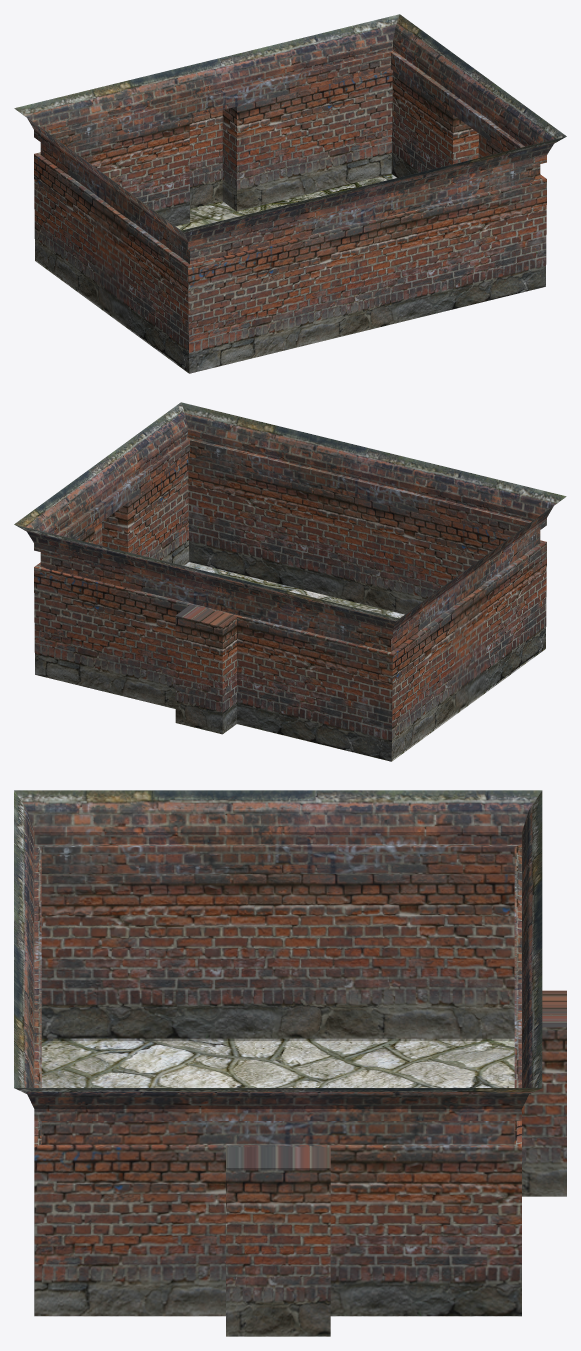
Rendered from RoomLeftBottomDoor.fbx.
3 renders of one model, top to bottom at view 1: azimuth 30°, elevation 25°; view 2: azimuth 150°, elevation 25°; view 3: azimuth 270°, elevation 25°, orthographic. The views are drawn at different scales.
Visible parts, largest first — view 1: RoomLeftBottomDoor; view 2: RoomLeftBottomDoor; view 3: RoomLeftBottomDoor.
Part boxes in pixels (bbox=[...]): RoomLeftBottomDoor: bbox=[14, 14, 566, 373]; RoomLeftBottomDoor: bbox=[14, 402, 566, 761]; RoomLeftBottomDoor: bbox=[14, 790, 566, 1336].
Size of the model in its own units: 826 by 301 by 628.
